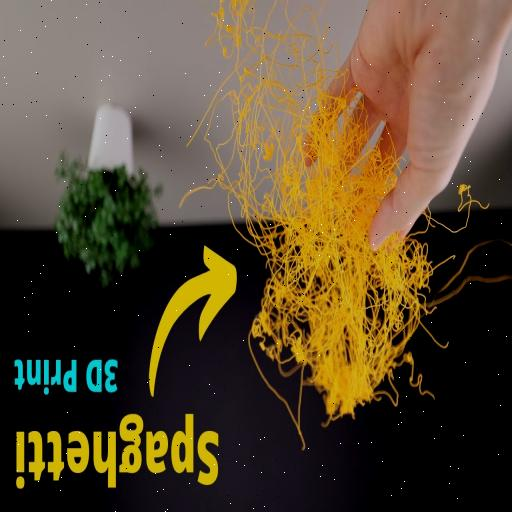spaghetti: (214, 14, 466, 458)
